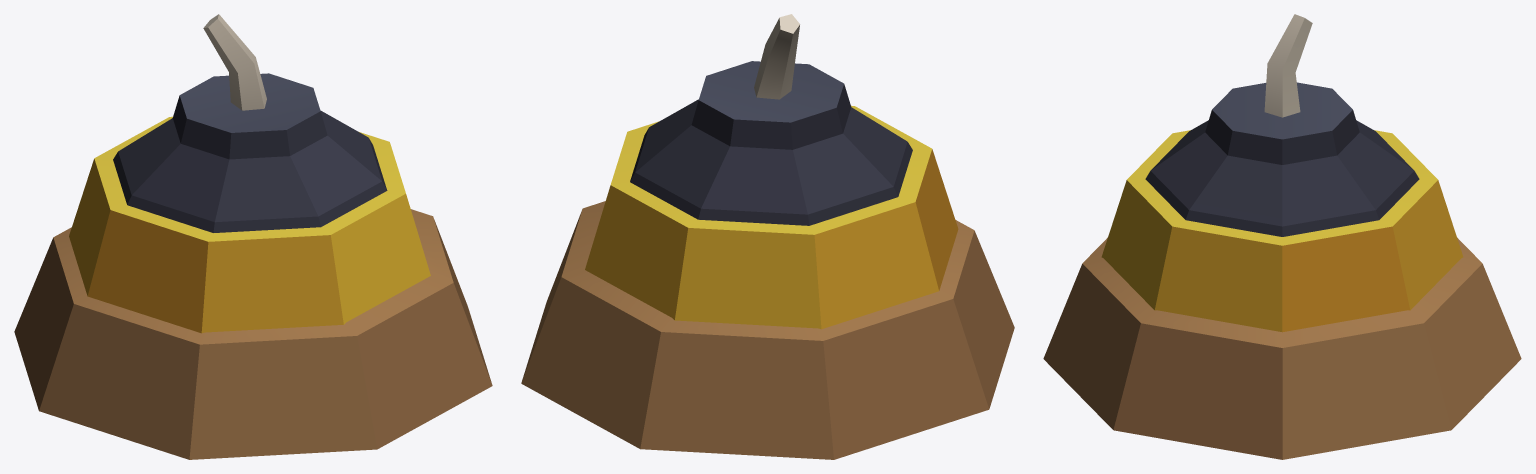
Rendered from MinesLv5.fbx.
3 views of the same model, side by side, from view 1: azimuth 30°, elevation 25°; view 2: azimuth 150°, elevation 25°; view 3: azimuth 270°, elevation 25° (orthographic). The views are drawn at different scales.
Visible parts, largest first — view 1: MinesLv5; view 2: MinesLv5; view 3: MinesLv5.
Boxes of the visible parts, box(x1,y1,x2,y2) form: MinesLv5: box(14, 14, 492, 459); MinesLv5: box(521, 14, 1014, 459); MinesLv5: box(1043, 14, 1521, 459).
Bounding box in the file's own units: 37.06 × 32.4 × 37.06.
